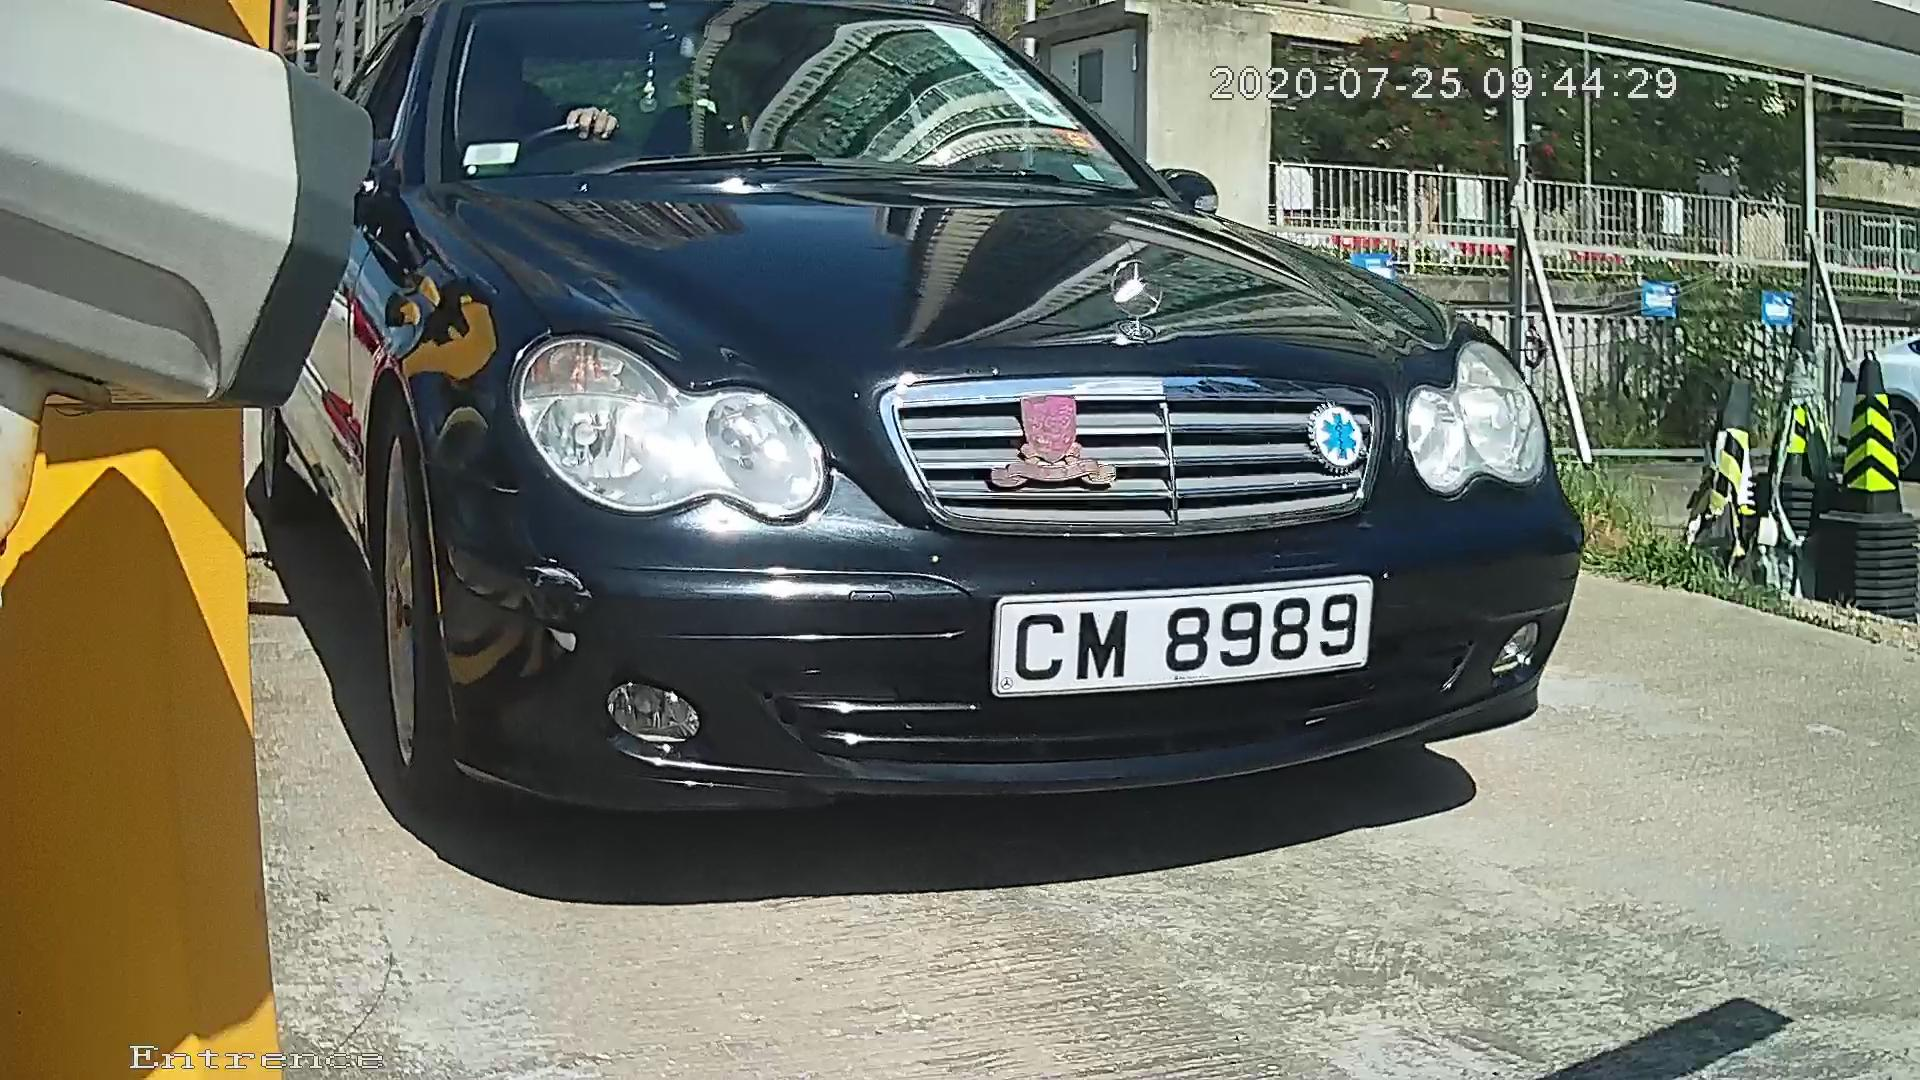Car: (103, 25, 1706, 912)
License Plate: (969, 569, 1389, 709)
